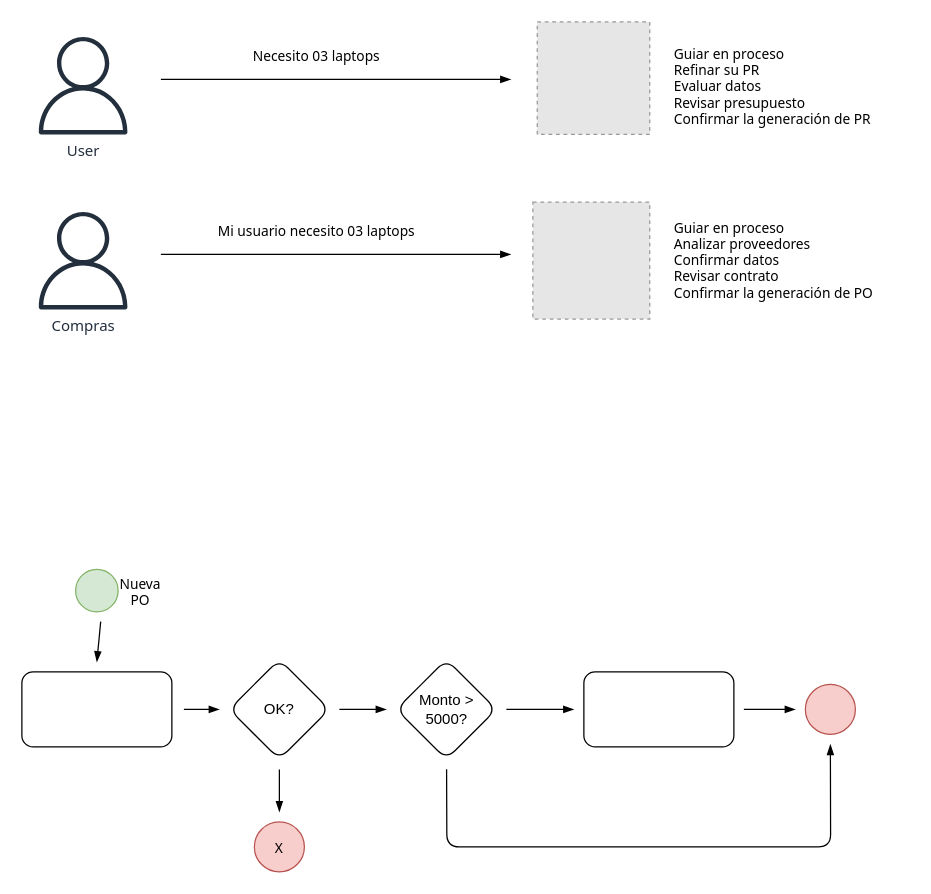
Some shapes in this 931 by 894 pixel diagram are drawn without their labels. Grey dashed boxes stand in for pictures. Here are the shapes that lost their labels. From the top down, the centre of each, then its label:
At point (96, 709): "Validar datos de entrada".
At point (658, 709): "Audita Contrato".
At point (829, 708): "PO".
